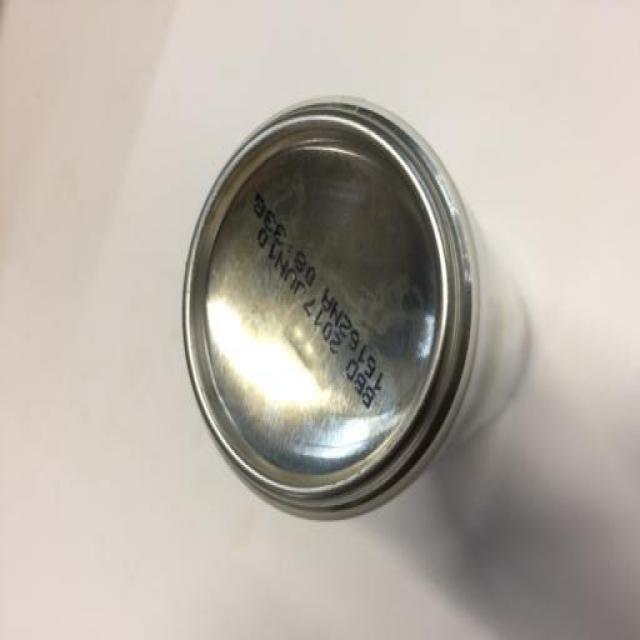metel: (172, 136, 474, 491)
